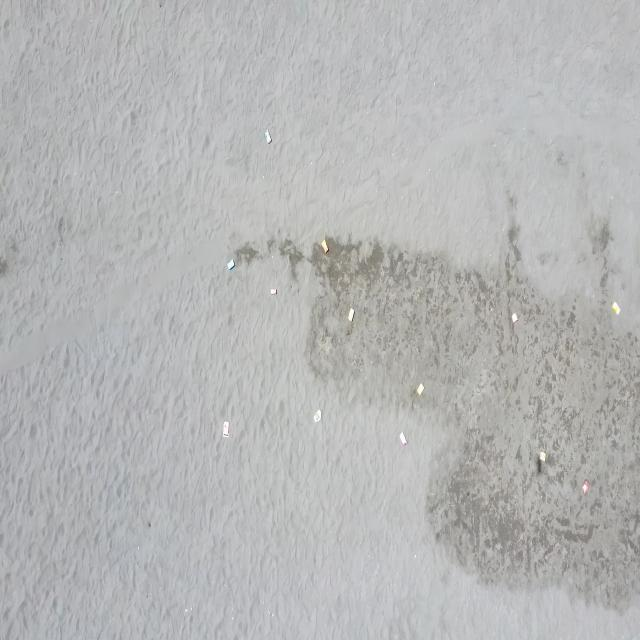retort-pouch: (263, 128, 273, 146), (612, 298, 621, 317), (416, 380, 426, 397), (313, 408, 322, 425), (322, 238, 330, 256), (222, 420, 230, 438), (399, 431, 408, 447), (348, 306, 356, 323), (227, 258, 236, 273), (582, 480, 590, 495), (538, 449, 546, 463), (511, 312, 518, 325), (270, 286, 278, 296)
